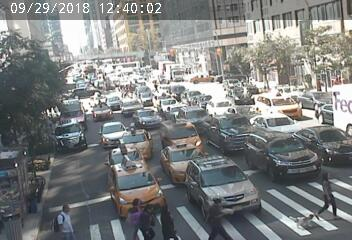car: (190, 162, 262, 211), (243, 134, 312, 178), (106, 161, 160, 215), (202, 113, 252, 151), (304, 125, 352, 156), (162, 147, 201, 179), (160, 121, 199, 148), (100, 146, 147, 167), (258, 115, 301, 137), (255, 93, 299, 113), (56, 124, 86, 152), (119, 130, 153, 152), (158, 60, 188, 82), (60, 98, 87, 121), (99, 122, 131, 141), (176, 107, 210, 124), (133, 108, 161, 128), (207, 100, 237, 115), (183, 91, 207, 104), (92, 100, 108, 119), (135, 86, 153, 101), (122, 100, 139, 114), (106, 93, 119, 111), (159, 99, 180, 108)
